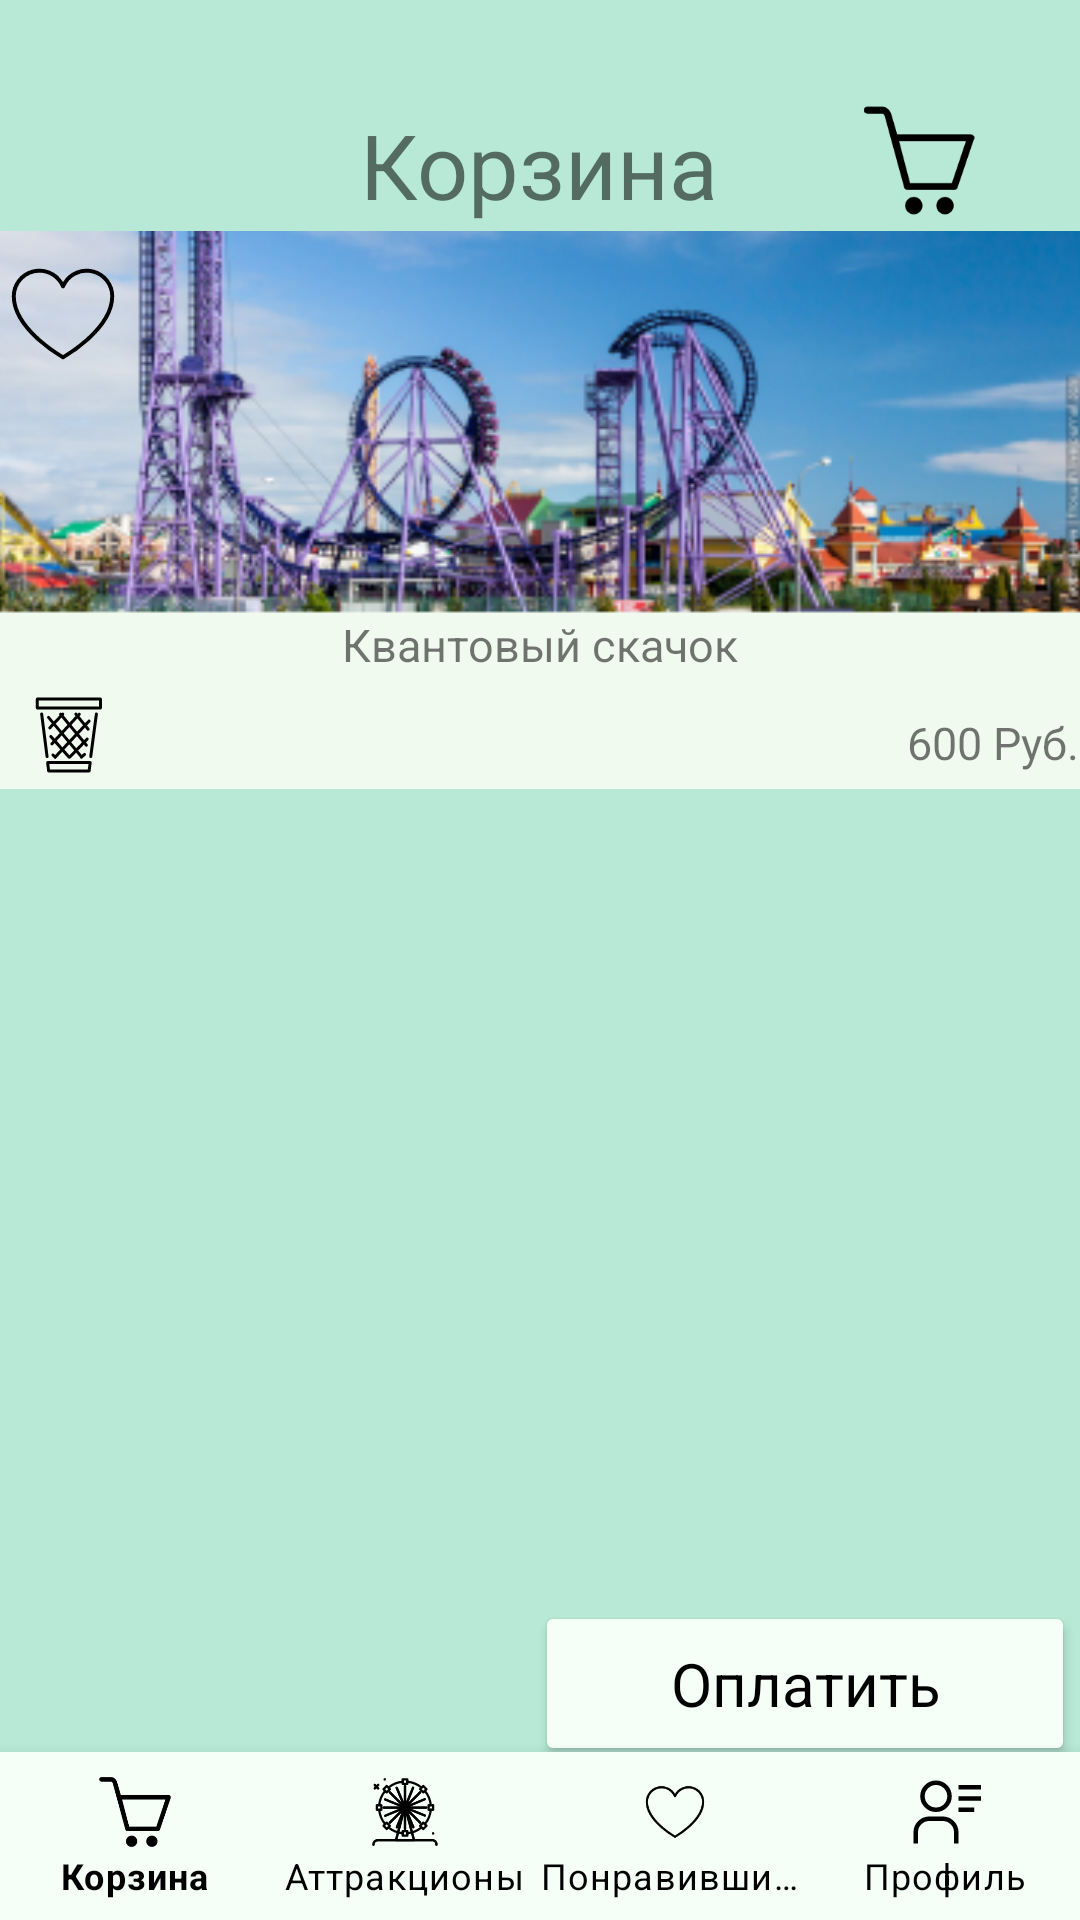

Locate icon controls on the screen. Image size 1080*1920, boxes as BBox(x1, y1, x2, y2).
basket: BBox(864, 106, 975, 215)
heart: BBox(11, 268, 126, 360)
wastebasket: BBox(35, 697, 102, 773)
